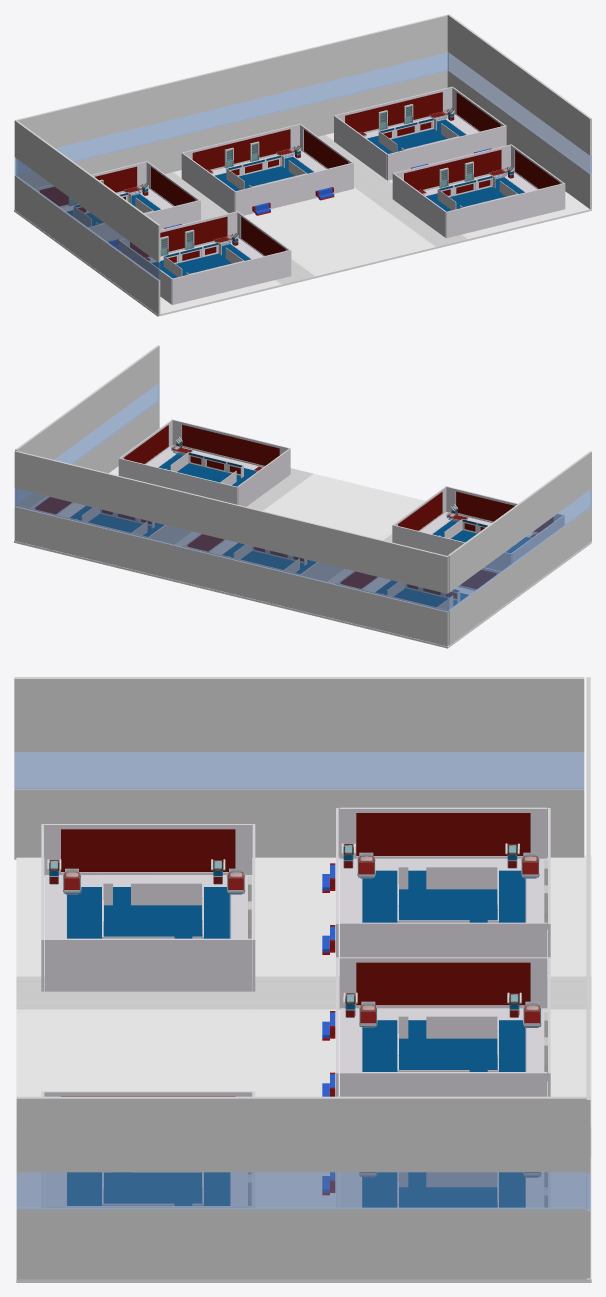
The picture shows the model from 3 angles, top to bottom: view 1: azimuth 30°, elevation 25°; view 2: azimuth 150°, elevation 25°; view 3: azimuth 270°, elevation 25°; orthographic projection. The views are drawn at different scales.
Visible parts, largest first — view 1: pasted__pCube21, pCube1, pasted__pCube23, pasted__pCube22, PAREDE_TRAS3, PAREDE_TRAS6, PAREDE_TRAS7, PAREDE_TRAS4, polySurface14, polySurface15, polySurface12, polySurface13 (+4 smaller); view 2: pasted__pCube21, pasted__pCube23, pasted__pCube22, pCube1, PAREDE_TRAS3, PAREDE_TRAS4, polySurface15, PAREDE_TRAS7, PAREDE_TRAS6, polySurface14, polySurface4, polySurface11 (+1 smaller); view 3: pasted__pCube22, pasted__pCube23, pCube1, PAREDE_TRAS4, PAREDE_TRAS6, polySurface4, polySurface3, PAREDE_TRAS3, polySurface2, PAREDE_TRAS7, pasted__pCube21, polySurface5.
Boxes of the visible parts, box(x1,y1,x2,y2) form: pasted__pCube21: box(14, 14, 448, 210); pCube1: box(14, 133, 591, 316); pasted__pCube23: box(16, 121, 160, 315); pasted__pCube22: box(447, 14, 591, 209); PAREDE_TRAS3: box(392, 144, 563, 237); PAREDE_TRAS6: box(181, 123, 352, 212); PAREDE_TRAS7: box(334, 86, 505, 179); PAREDE_TRAS4: box(119, 211, 289, 304); polySurface14: box(171, 250, 291, 304); polySurface15: box(445, 183, 565, 238); polySurface12: box(234, 162, 353, 215); polySurface13: box(387, 125, 506, 180); pasted__pCube21: box(14, 451, 448, 646); pasted__pCube23: box(447, 451, 591, 645); pasted__pCube22: box(15, 345, 159, 508); pCube1: box(14, 466, 591, 648); PAREDE_TRAS3: box(118, 420, 290, 506); PAREDE_TRAS4: box(392, 486, 563, 570); polySurface15: box(171, 419, 290, 473); PAREDE_TRAS7: box(30, 496, 191, 544); PAREDE_TRAS6: box(182, 533, 343, 581); polySurface14: box(445, 486, 564, 533); polySurface4: box(363, 577, 473, 606); polySurface11: box(458, 567, 500, 590); pasted__pCube22: box(16, 1096, 586, 1279); pasted__pCube23: box(14, 677, 584, 859); pCube1: box(16, 855, 591, 1282); PAREDE_TRAS4: box(44, 824, 255, 991); PAREDE_TRAS6: box(339, 957, 550, 1096); polySurface4: box(340, 858, 547, 973); polySurface3: box(339, 807, 547, 860); PAREDE_TRAS3: box(44, 1091, 255, 1207); polySurface2: box(340, 922, 547, 957); PAREDE_TRAS7: box(340, 1172, 550, 1207); pasted__pCube21: box(586, 677, 590, 1278); polySurface5: box(426, 866, 497, 889).
Bounding box in the file's own units: 135 × 27.45 × 77.85.
10 materials, 6 textured.
